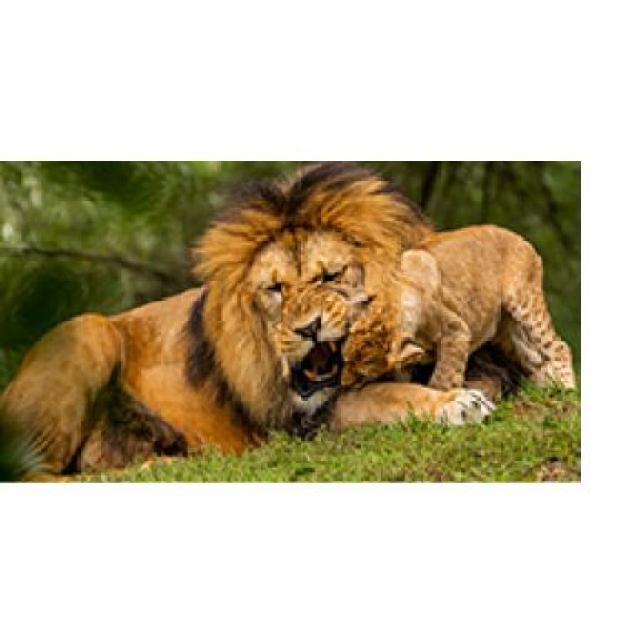Lion: (3, 163, 599, 535)
